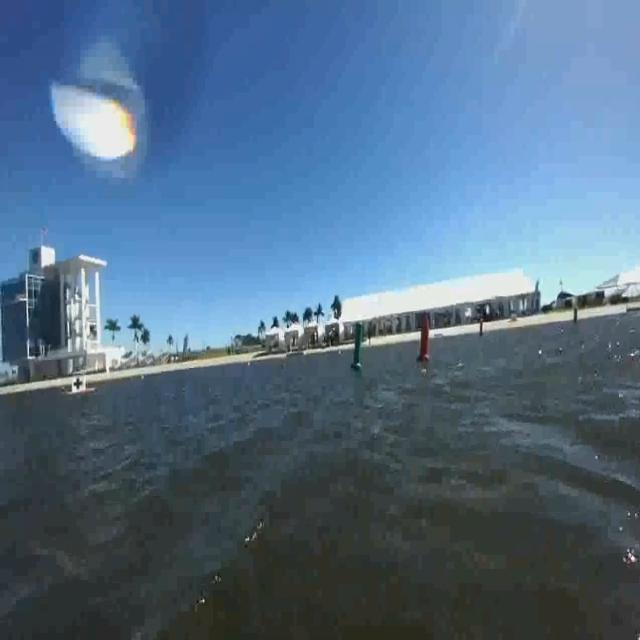green-column-buoy: (350, 320, 366, 371)
red-column-buoy: (417, 316, 432, 364)
